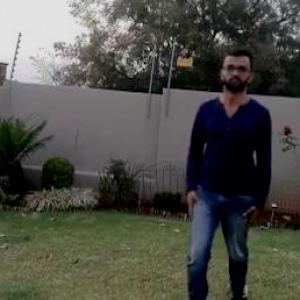follow: (188, 58, 268, 299)
